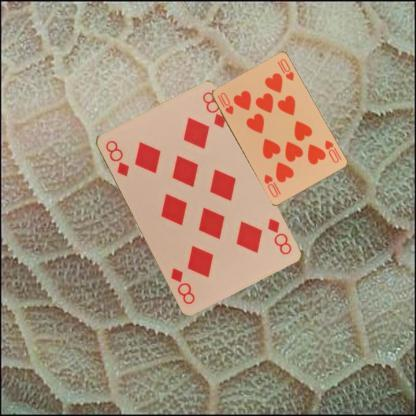10h: (214, 90, 235, 116), (322, 138, 340, 164)
8d: (264, 216, 293, 256), (102, 137, 130, 178)
